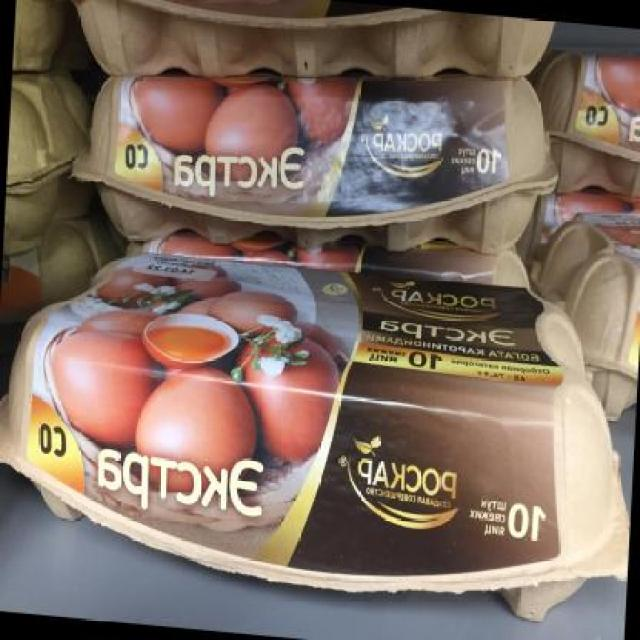Egg: (0, 243, 640, 639), (65, 42, 557, 280), (44, 0, 561, 108), (535, 204, 640, 419), (531, 31, 640, 207), (4, 73, 91, 247), (12, 0, 68, 75)
